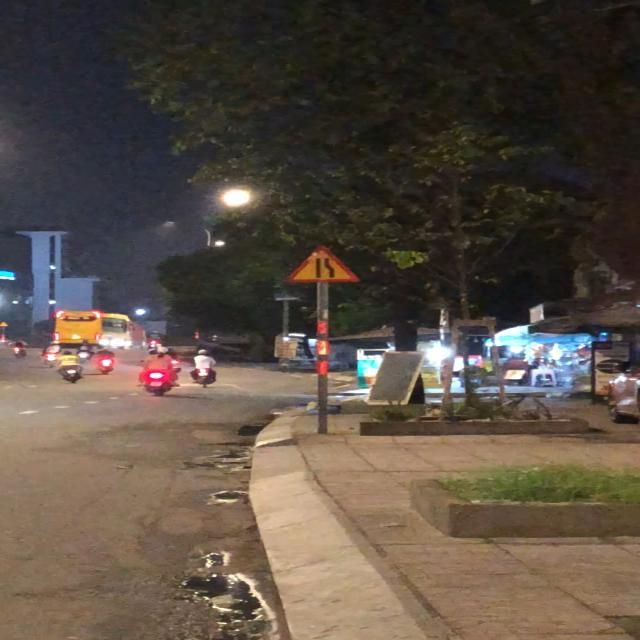Bien bao duong bi thu hep: (270, 242, 376, 288)
